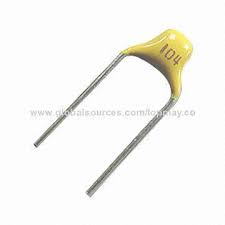ceramic capacitor: (80, 20, 214, 105)
